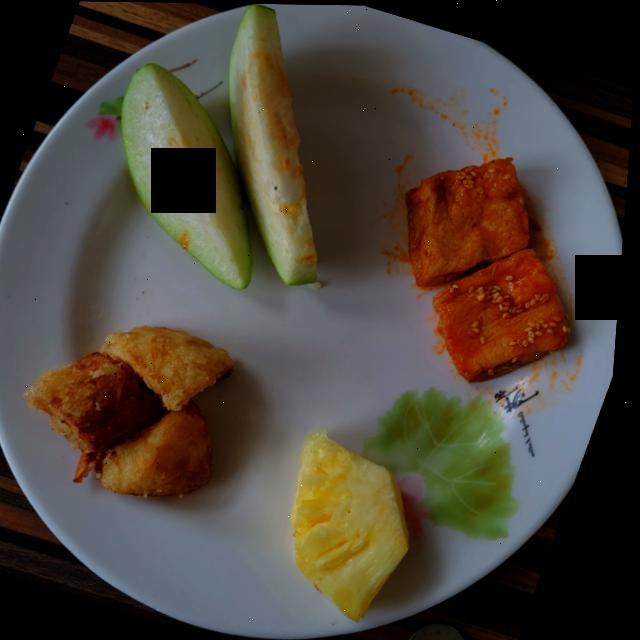coin: (417, 621, 474, 640)
creamy tofu: (408, 156, 575, 380)
fried potato: (29, 325, 239, 496)
guava -sliced-: (122, 4, 321, 288)
pineapple: (298, 429, 417, 618)
